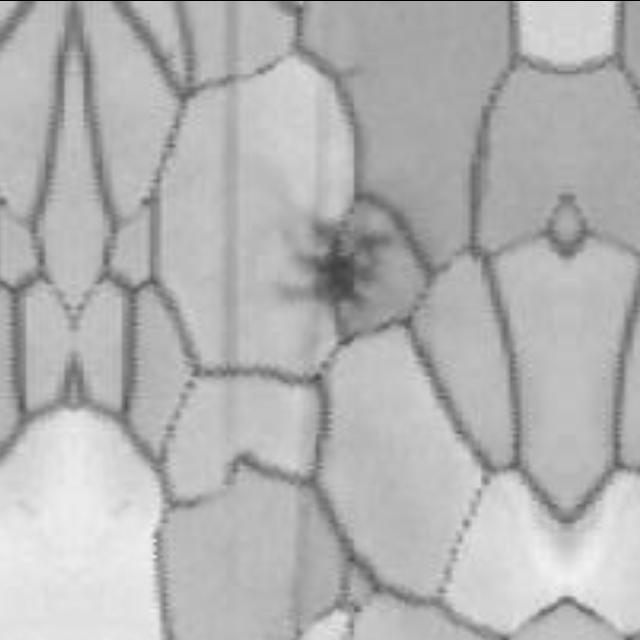good_void: (274, 212, 390, 309)
